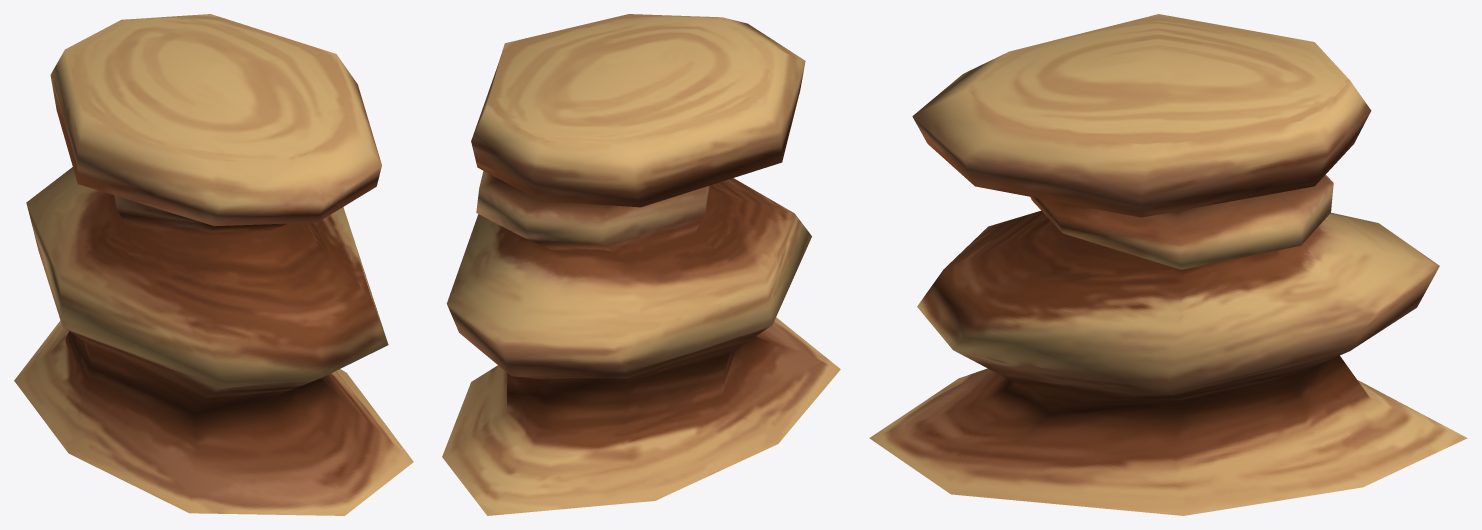
The model's file is cj_fenghuashi2.fbx.
The picture shows the model from 3 angles, left to right: view 1: azimuth 30°, elevation 25°; view 2: azimuth 150°, elevation 25°; view 3: azimuth 270°, elevation 25°; orthographic projection. The views are drawn at different scales.
Parts seen in each view (by area): view 1: cj_fenghuashi2; view 2: cj_fenghuashi2; view 3: cj_fenghuashi2.
Boxes of the visible parts, x1,y1,x2,y2 form: cj_fenghuashi2: (14, 14, 413, 515); cj_fenghuashi2: (442, 14, 840, 515); cj_fenghuashi2: (869, 14, 1467, 515).
Size of the model in its own units: 2507 by 2855 by 4144.
